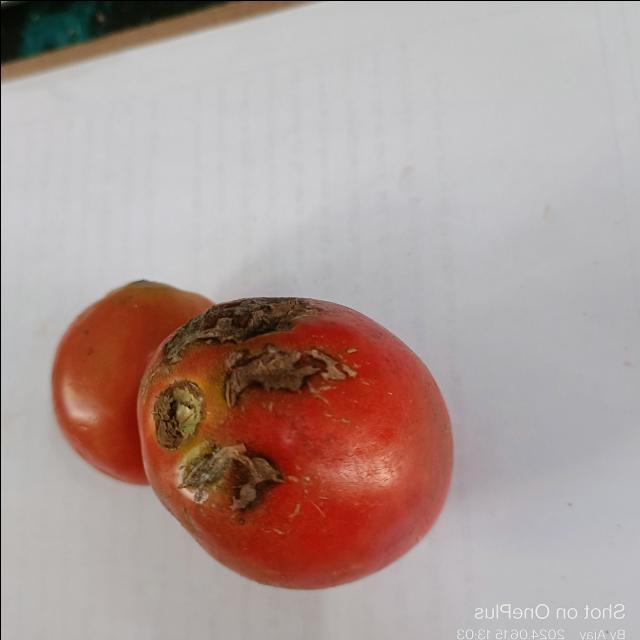Bacterial_Spot: (220, 343, 354, 406), (183, 442, 285, 512), (201, 296, 305, 336), (151, 380, 205, 432)
